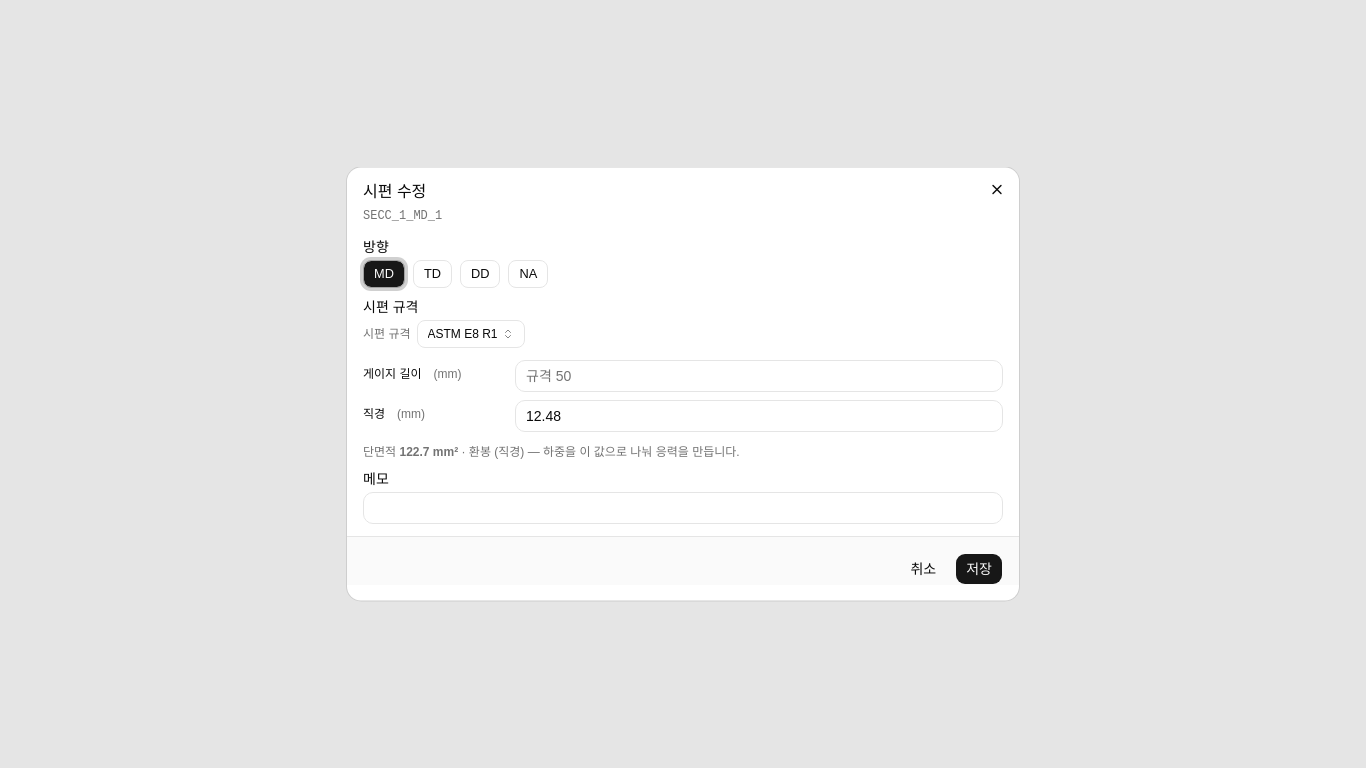
Test: 방향 변경 › 바꾸면 이름이 다시 매겨진다고 미리 말한다
The image size is (1366, 768).
Click the button "TD": (432, 274) [413,260,452,288]
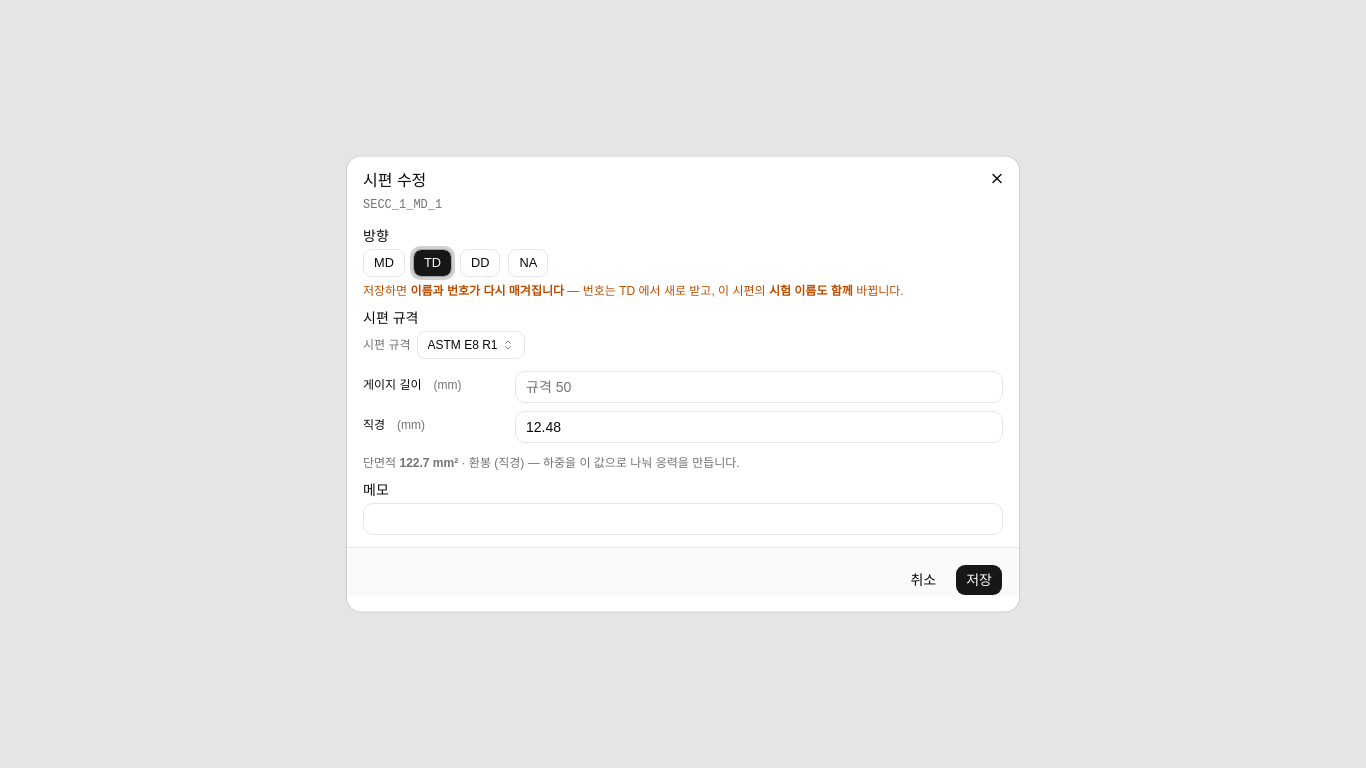
Check: the text "이름과 번호가 다시 매겨집니다" is shown, box [410,284,564,298]
Check: the text "시험 이름도 함께" is shown, box [769,284,853,298]
